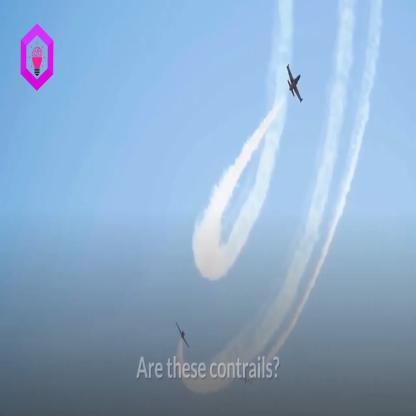plane: (282, 50, 309, 113), (172, 314, 192, 353)
